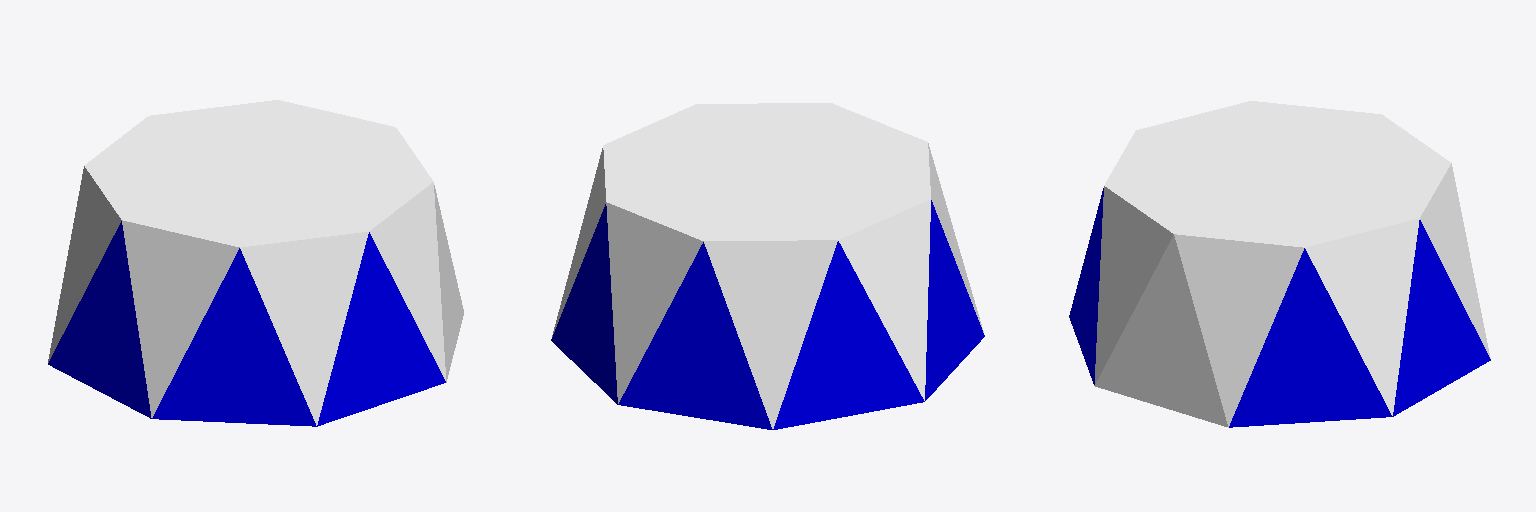
Rendered from piedradepapa.obj.
3 views of the same model, side by side, from view 1: azimuth 30°, elevation 25°; view 2: azimuth 150°, elevation 25°; view 3: azimuth 270°, elevation 25° (orthographic).
Parts seen in each view (by area): view 1: Mesh1 Model; view 2: Mesh1 Model; view 3: Mesh1 Model.
Boxes of the visible parts, x1,y1,x2,y2 form: Mesh1 Model: [48, 100, 463, 426]; Mesh1 Model: [551, 103, 984, 429]; Mesh1 Model: [1069, 101, 1490, 427].
Size of the model in its own units: 1.94 by 0.84 by 1.94.